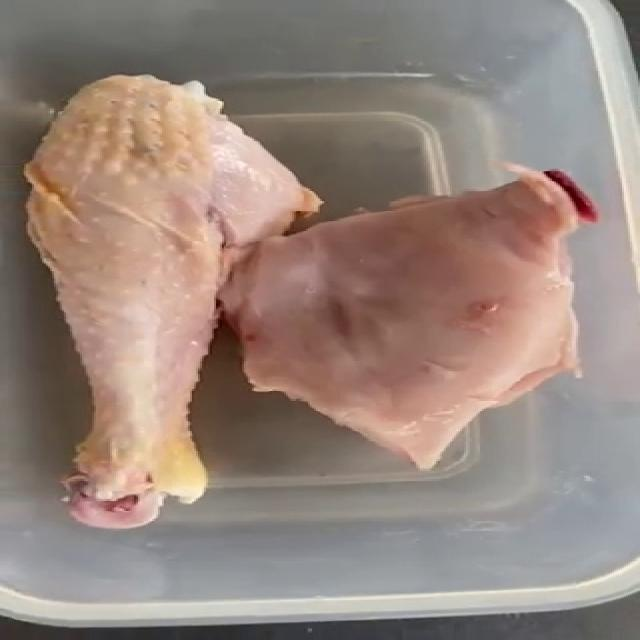chicken: (22, 72, 324, 530), (216, 160, 598, 471)
